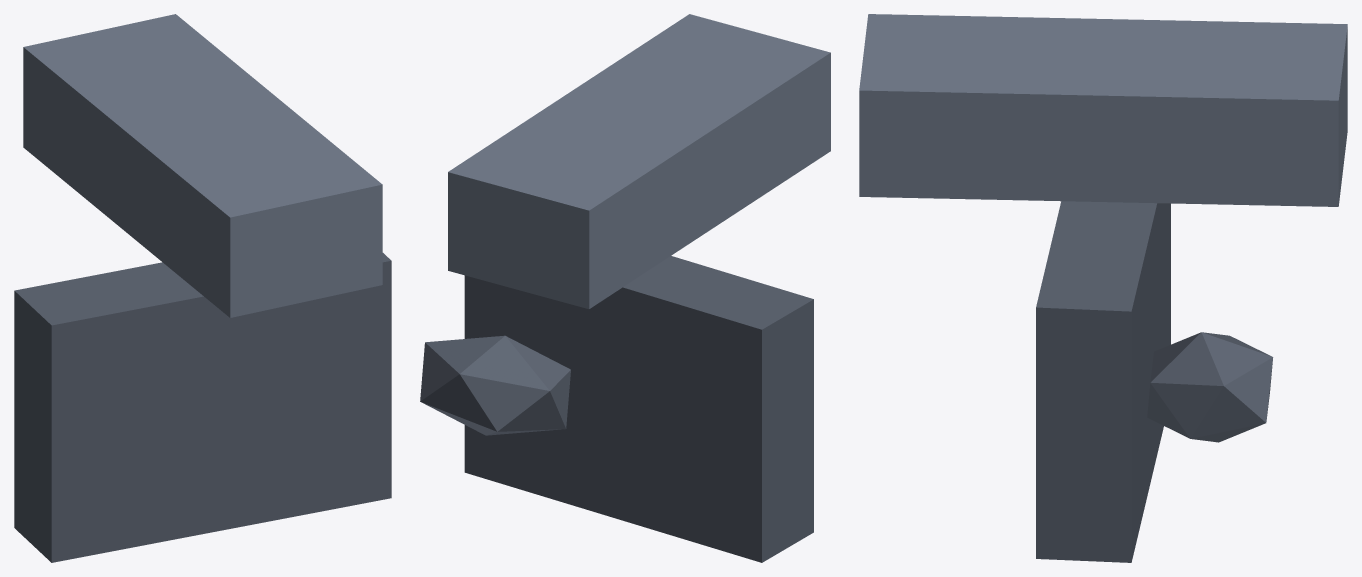
The model's file is EXTW_SouthMarker_02.glb.
3 views of the same model, side by side, from view 1: azimuth 30°, elevation 25°; view 2: azimuth 150°, elevation 25°; view 3: azimuth 270°, elevation 25° (orthographic). The views are drawn at different scales.
Visible parts, largest first — view 1: EXTW_SouthMarker_02; view 2: EXTW_SouthMarker_02; view 3: EXTW_SouthMarker_02.
Part boxes in pixels (box(x1,y1,x2,y2)): EXTW_SouthMarker_02: box(14, 14, 391, 562); EXTW_SouthMarker_02: box(420, 14, 830, 562); EXTW_SouthMarker_02: box(859, 14, 1347, 562).
Size of the model in its own units: 0.7543 by 0.87 by 0.9159.
